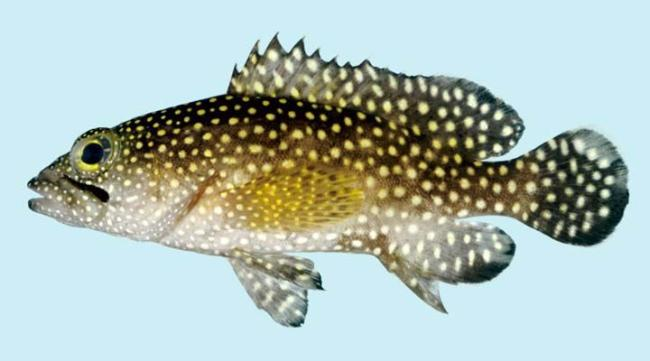fish: (26, 30, 630, 328)
